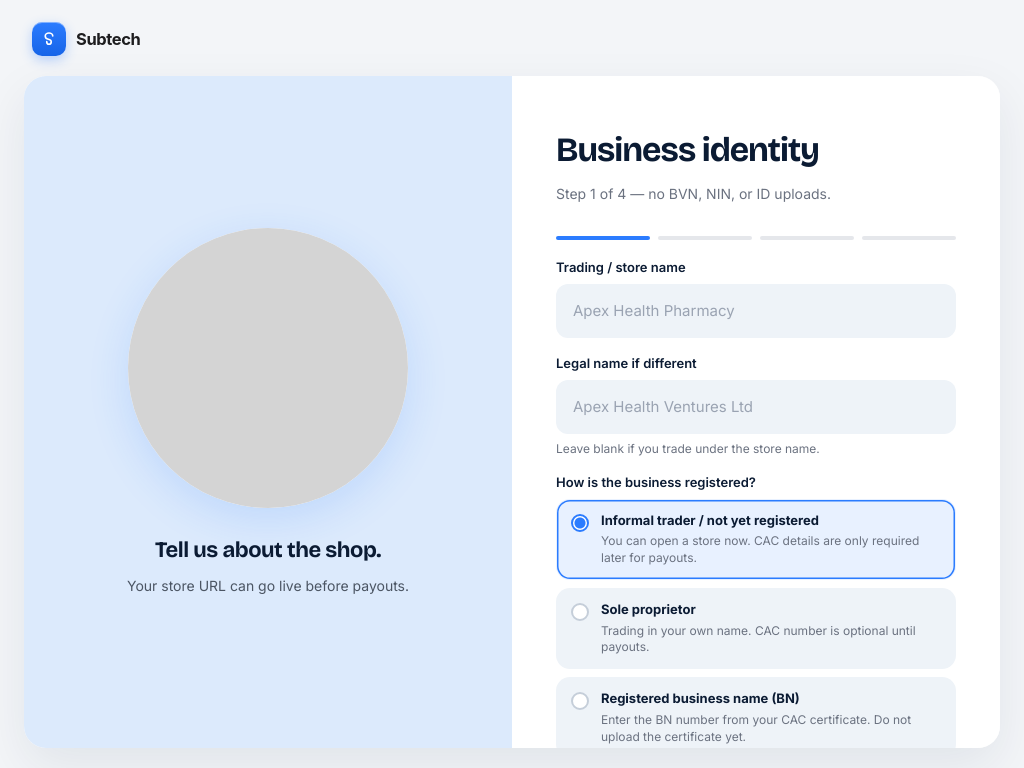
Merchant auth pages › lets merchants search Nigerian states without asking for a POS till
Type "Apex Pharmacy" into the field labelled "Trading / store name" at [756, 311], box [556,284,956,338]
(page scrolled)
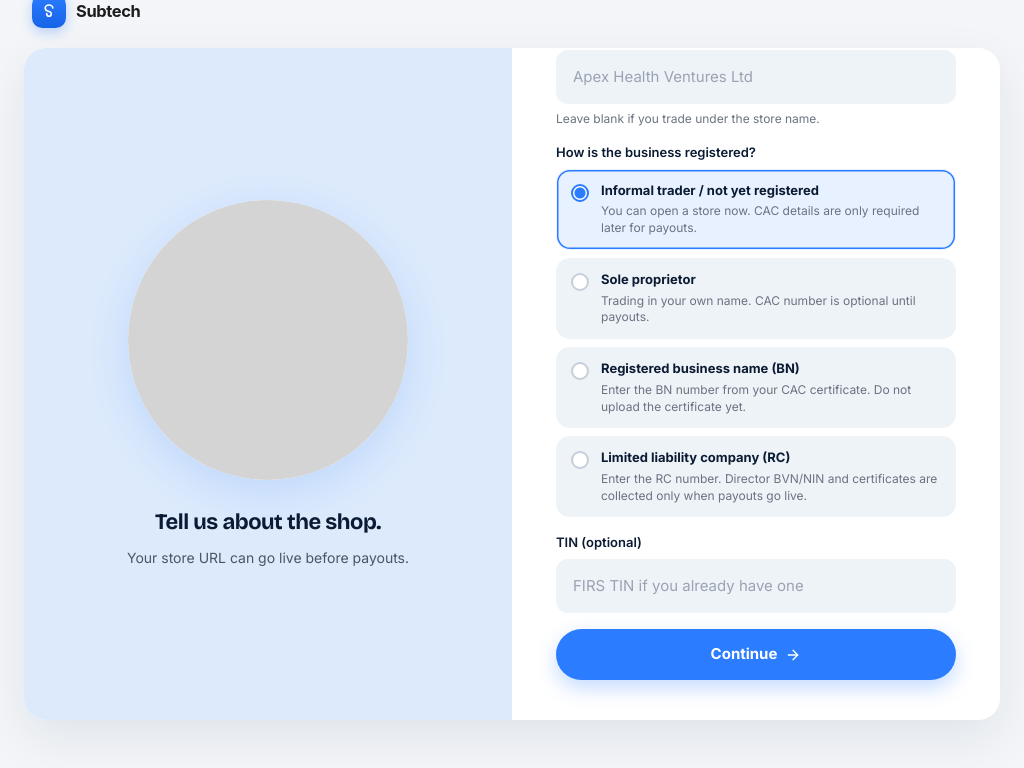
Click the button "Continue" at [756, 655], box [556,630,956,680]
(page scrolled)
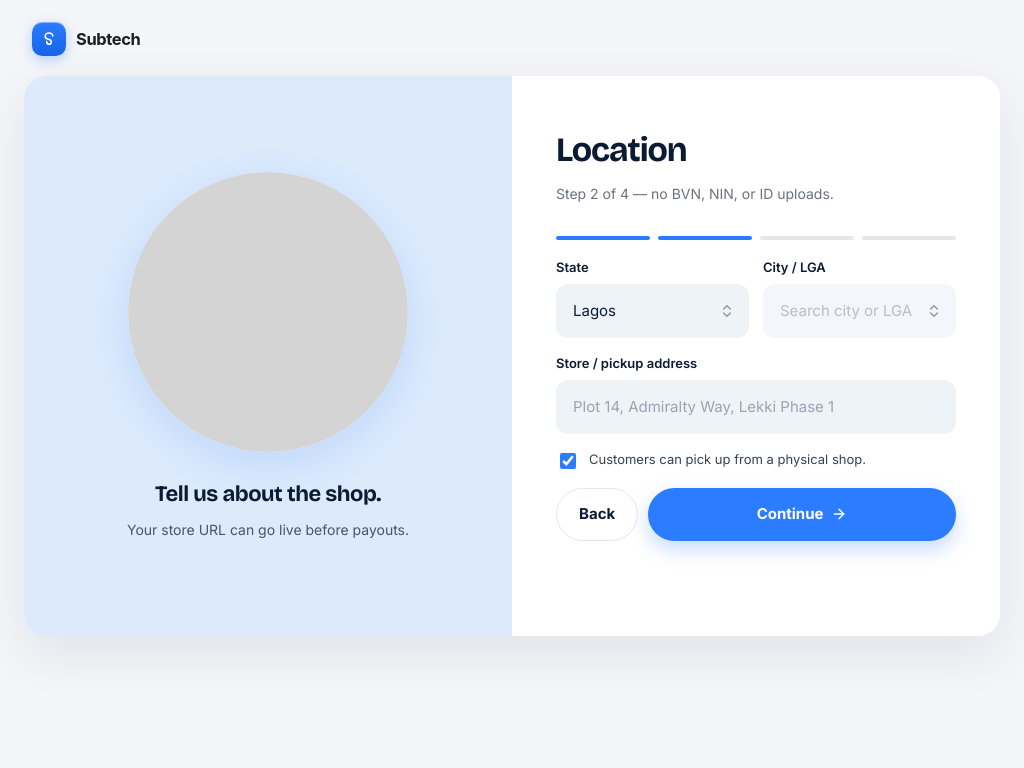
Replace the text in the dropdown labelled "State" with "kan" at [652, 311], box [556,284,749,338]
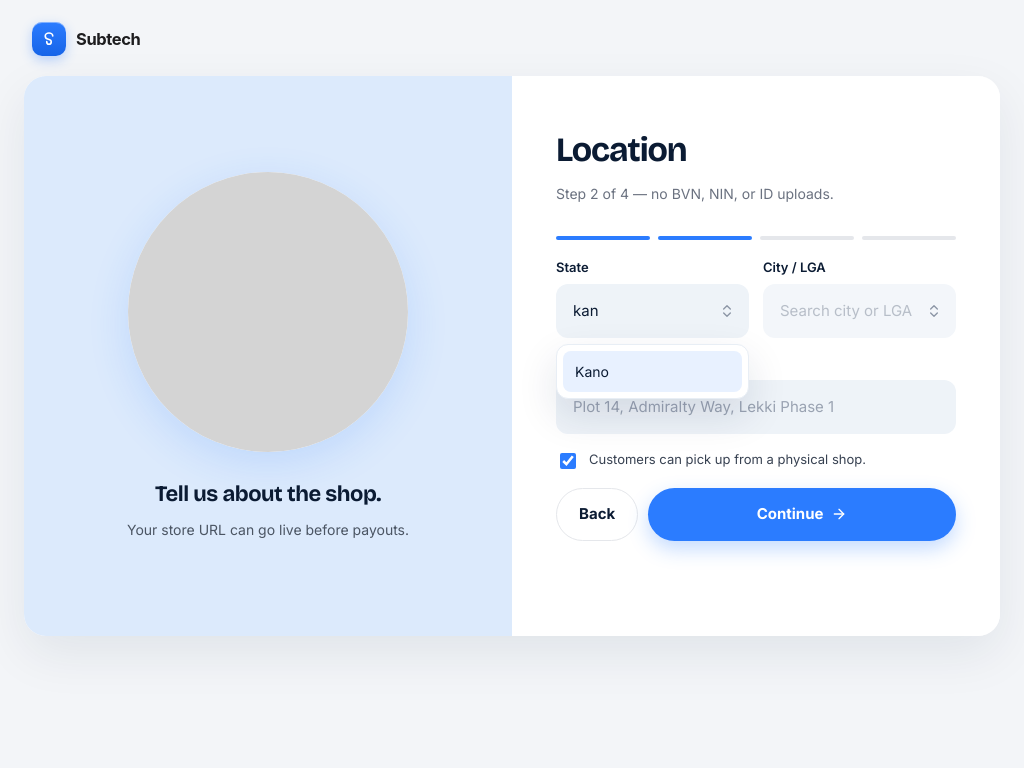
Press the mouse on the option "Kano" at [652, 372], box [563,351,742,392]
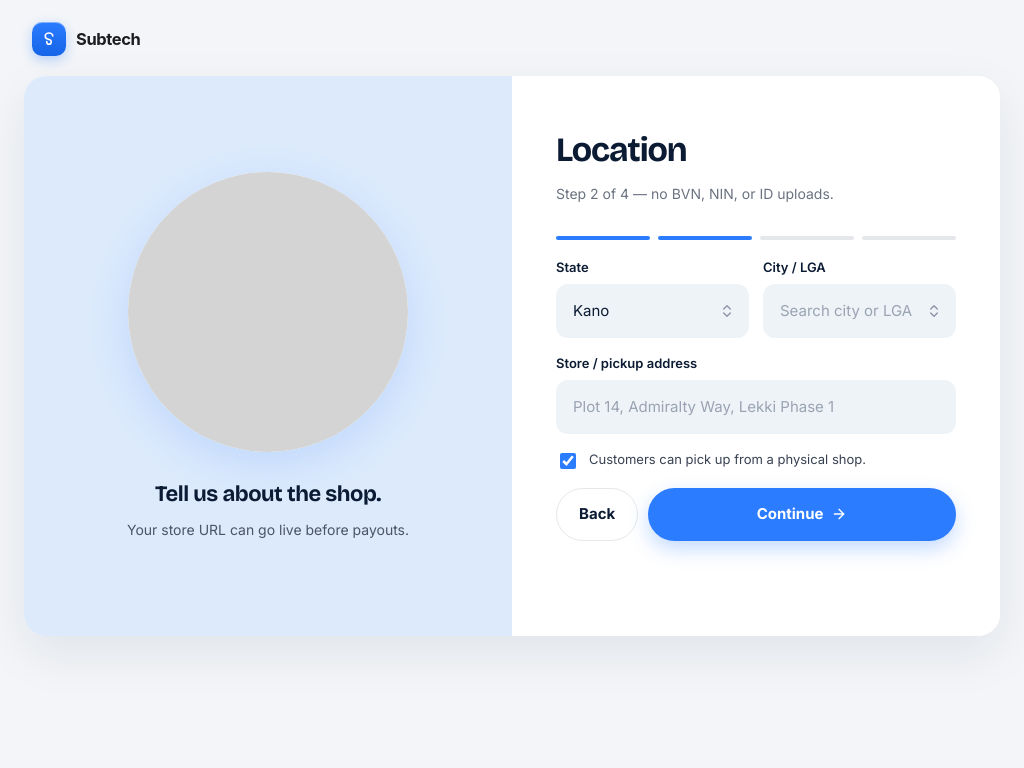
Now the text "Customers can pick up from a physical shop." is shown, box [589,450,866,469]
Now the dropdown labelled "State" holds "Kano", box [556,284,749,338]
